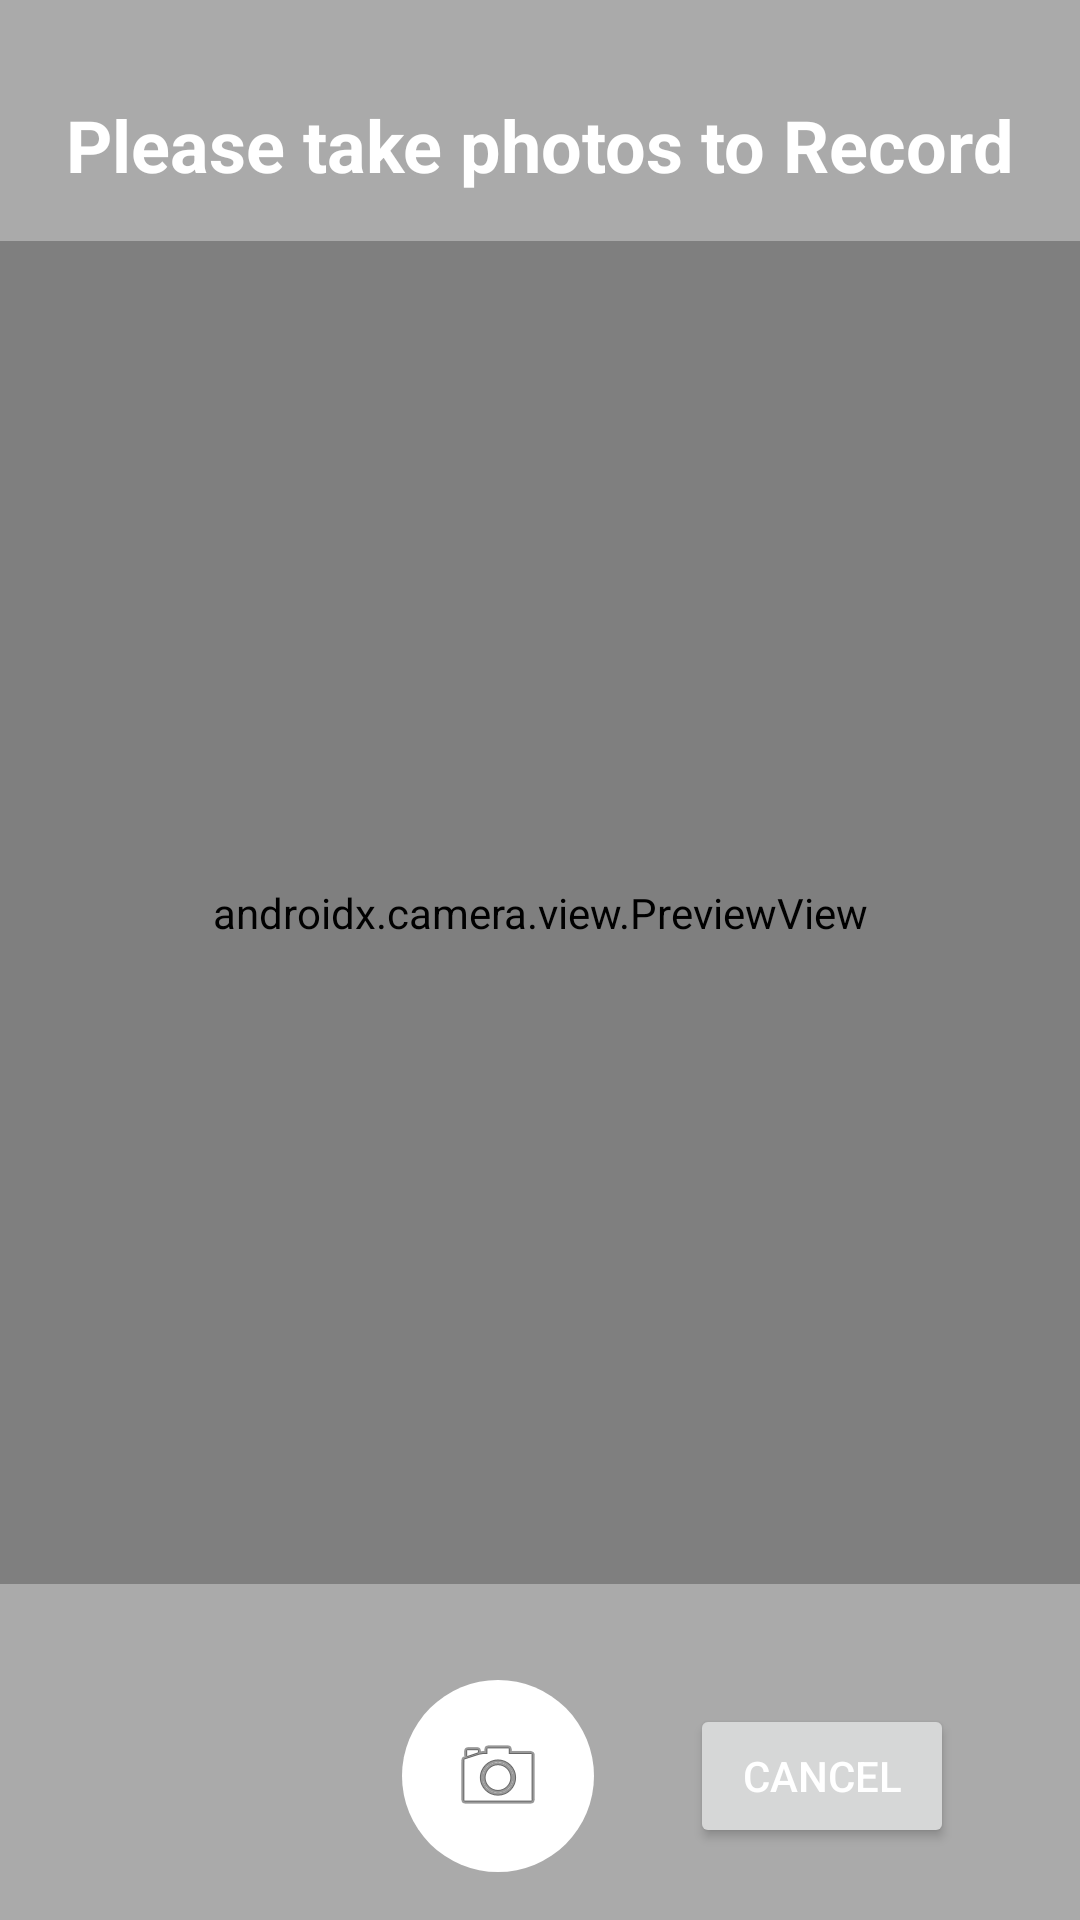

Icon bounding boxes for this 1080*1920 phone screenshot, format bbox=(x1, y1, x2, y2):
Take Photo: bbox=(402, 1680, 594, 1872)
